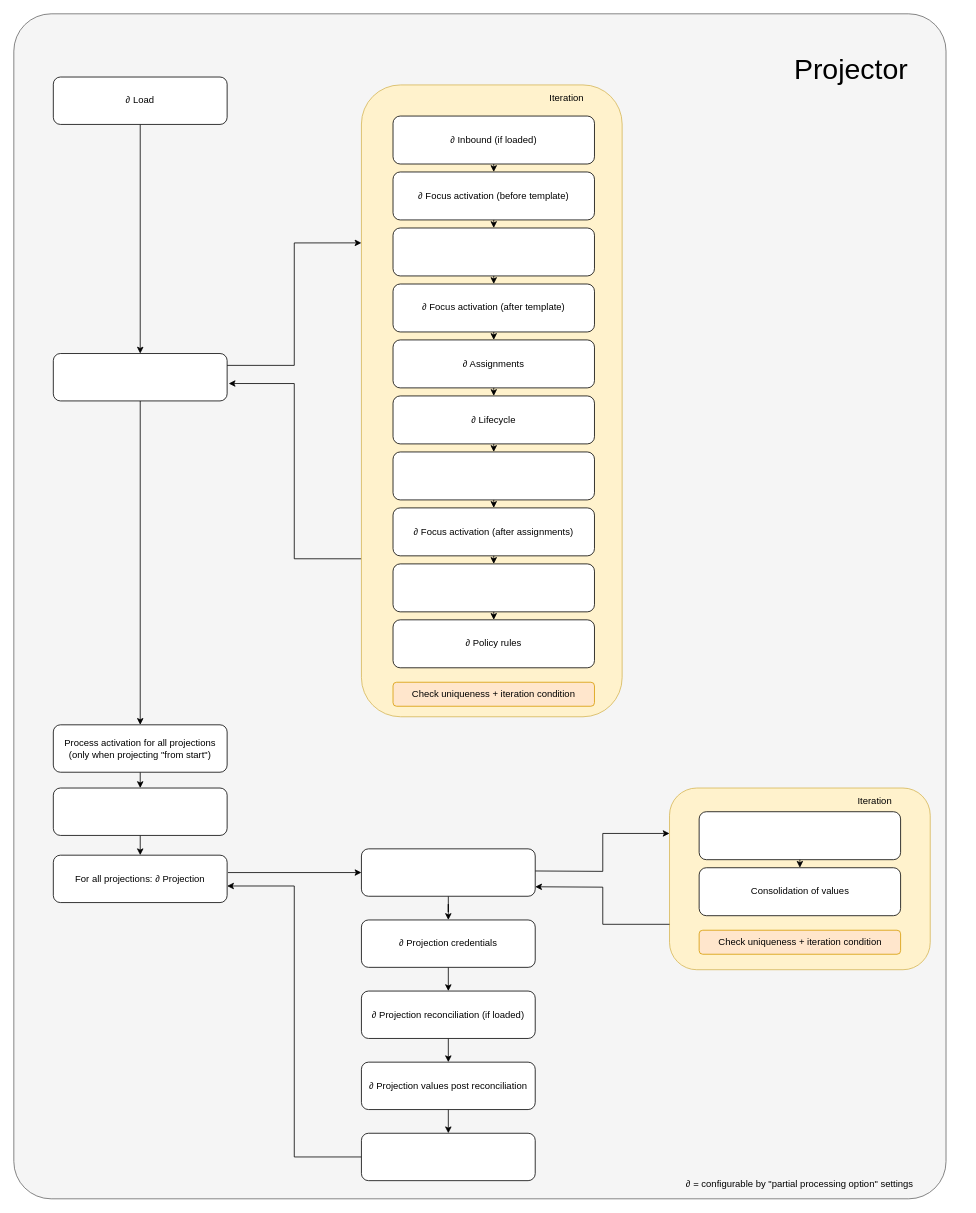
Some shapes in this 976 by 1213 pixel diagram are drawn without their labels. Here are the shapes that lost their labels. From the top down, the centre of each, then its label:
At point (493, 251): "∂ Object template (before assignments)".
At point (140, 377): "∂ Focus".
At point (493, 475): "∂ Object template (after assignments)".
At point (493, 587): "∂ Credentials".
At point (140, 811): "Sort projections to waves".
At point (799, 835): "Outbound".
At point (448, 872): "∂ Projection values".
At point (448, 1156): "∂ Projection lifecycle".
